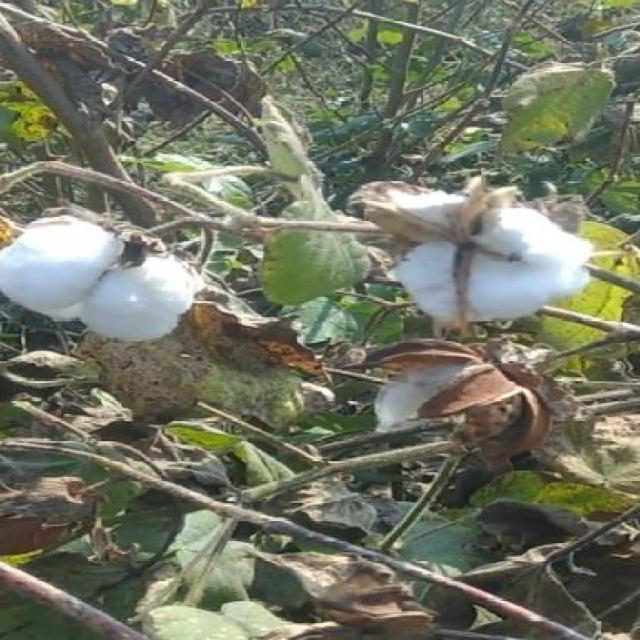cotton_ready: (346, 170, 605, 332), (1, 195, 208, 340)
